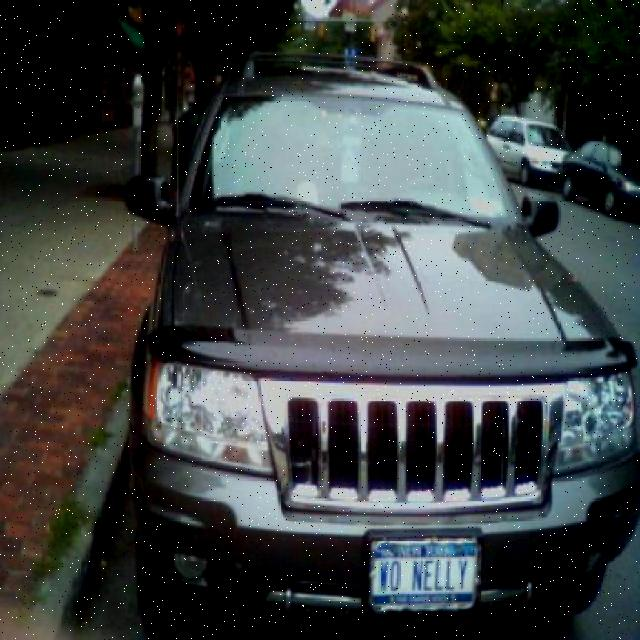license_plate: (366, 536, 479, 612)
